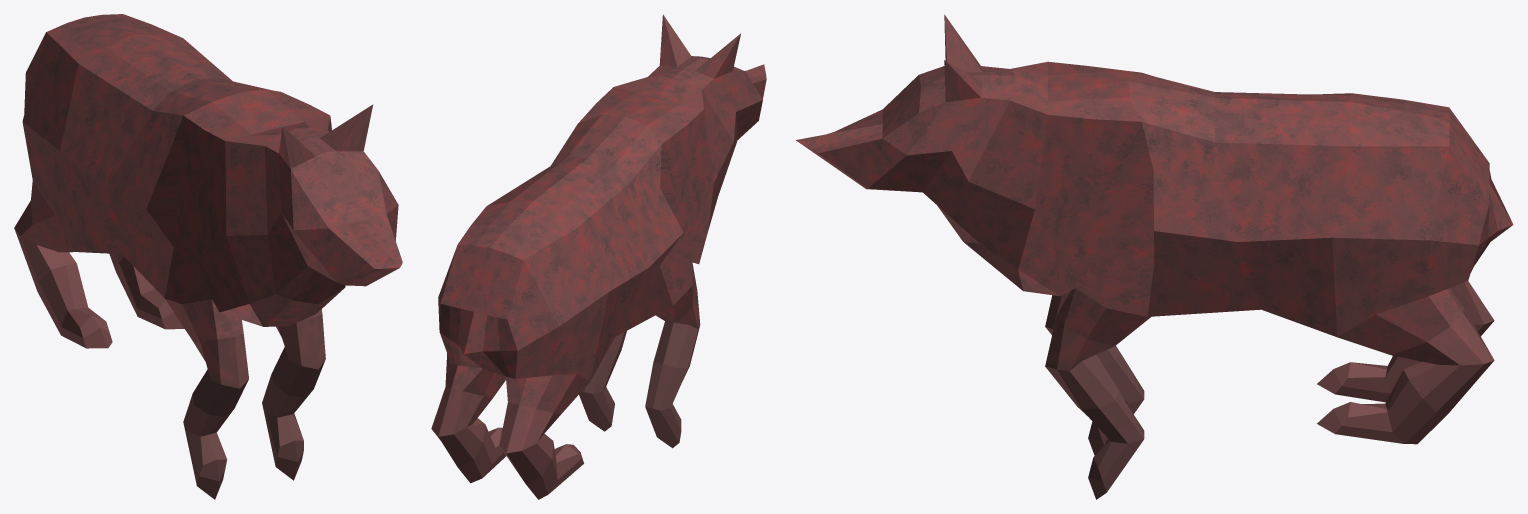
The model's file is piesblend_000031.obj.
3 renders of one model, left to right at view 1: azimuth 30°, elevation 25°; view 2: azimuth 150°, elevation 25°; view 3: azimuth 270°, elevation 25°, orthographic. The views are drawn at different scales.
Visible parts, largest first — view 1: Cube; view 2: Cube; view 3: Cube.
Part boxes in pixels (x1,y1,x2,y2): Cube: (14, 14, 402, 499); Cube: (431, 14, 766, 499); Cube: (796, 14, 1513, 499).
Size of the model in its own units: 2.56 by 6.53 by 9.58.
Materials: 1 (1 with a texture image).
